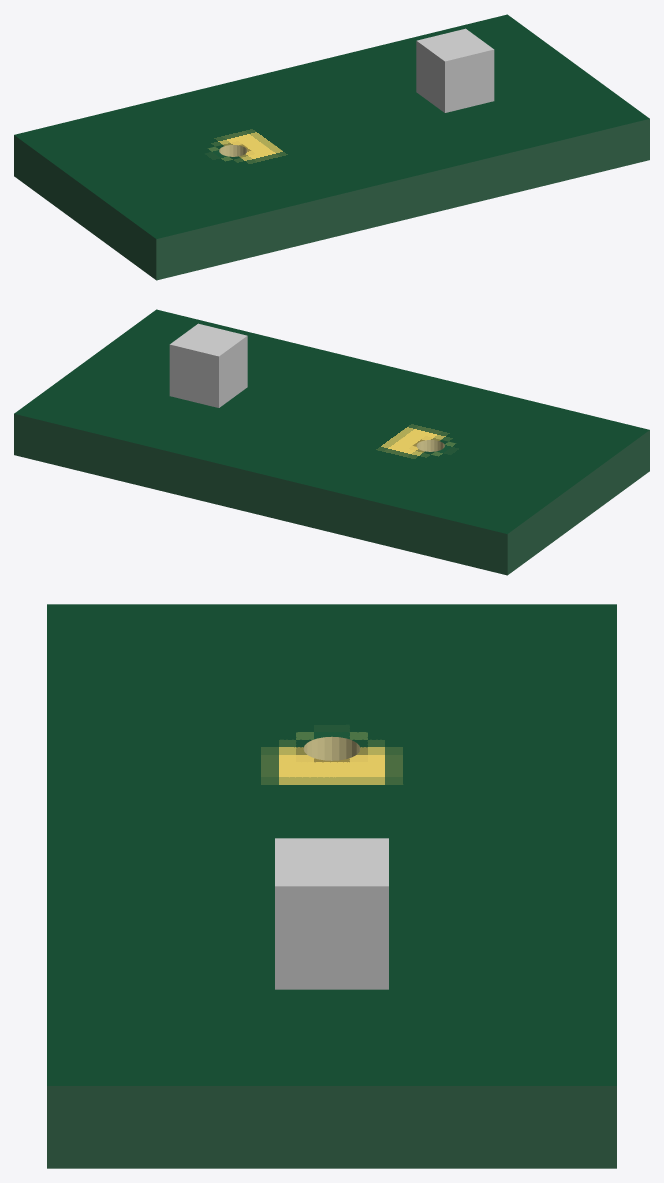
File: prerendered-board.glb
3 views of the same model, one above another, from view 1: azimuth 30°, elevation 25°; view 2: azimuth 150°, elevation 25°; view 3: azimuth 270°, elevation 25° (orthographic). The views are drawn at different scales.
Visible parts, largest first — view 1: Box0, U1; view 2: Box0, U1; view 3: Box0, U1, Via Plating.
Boxes of the visible parts, x1,y1,x2,y2 form: Box0: (14, 14, 649, 280); U1: (416, 28, 494, 112); Box0: (14, 309, 649, 575); U1: (169, 323, 247, 407); Box0: (47, 604, 616, 1168); U1: (275, 838, 388, 989); Via Plating: (303, 736, 360, 760).
Bounding box in the file's own units: 20 × 3.6 × 10.
5 materials, 2 textured.
